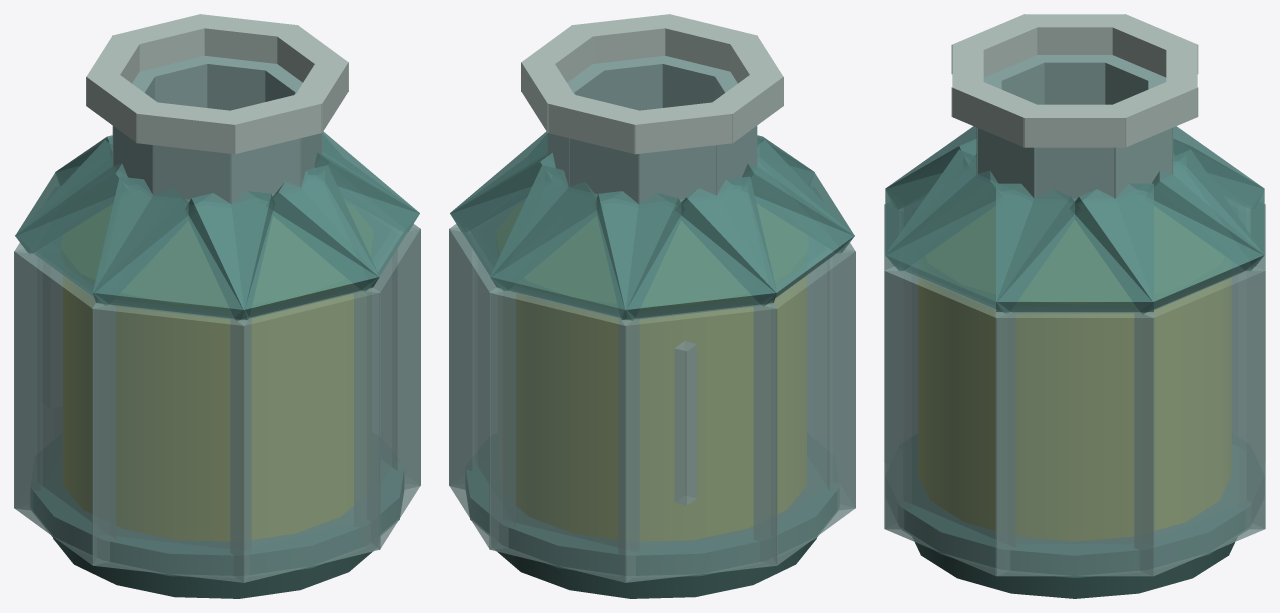
File: CMU3DBottleKelotaneCloud.glb
3 views of the same model, side by side, from view 1: azimuth 30°, elevation 25°; view 2: azimuth 150°, elevation 25°; view 3: azimuth 270°, elevation 25° (orthographic).
Visible parts, largest first — view 1: static liquid volume level 5, hollow bottle wall 06, hollow bottle wall 07, hollow bottle wall 05, inward glass shoulder 06, inward glass shoulder 07, hollow bottle wall 08, inward glass shoulder 05, bottom glass welt, inward glass shoulder 08, hollow bottle wall 01, hollow bottle wall 04 (+19 smaller); view 2: static liquid volume level 5, hollow bottle wall 04, hollow bottle wall 03, hollow bottle wall 05, inward glass shoulder 04, inward glass shoulder 03, hollow bottle wall 02, inward glass shoulder 05, bottom glass welt, inward glass shoulder 02, hollow bottle wall 06, hollow bottle wall 01 (+20 smaller); view 3: static liquid volume level 5, hollow bottle wall 01, hollow bottle wall 02, hollow bottle wall 08, inward glass shoulder 01, inward glass shoulder 02, inward glass shoulder 08, bottom glass welt, inward glass shoulder 03, inward glass shoulder 07, hollow bottle wall 03, hollow bottle wall 07 (+19 smaller).
Boxes of the visible parts, box(x1,y1,x2,y2) form: static liquid volume level 5: box(63, 276, 353, 540); hollow bottle wall 06: box(92, 303, 251, 582); hollow bottle wall 07: box(230, 287, 380, 582); hollow bottle wall 05: box(14, 248, 115, 565); inward glass shoulder 06: box(92, 176, 274, 320); inward glass shoulder 07: box(185, 165, 379, 321); hollow bottle wall 08: box(354, 228, 420, 549); inward glass shoulder 05: box(15, 140, 194, 306); bottom glass welt: box(31, 456, 403, 577); inward glass shoulder 08: box(266, 131, 419, 292); hollow bottle wall 01: box(374, 224, 420, 489); hollow bottle wall 04: box(14, 243, 53, 510); static liquid volume level 5: box(516, 276, 806, 540); hollow bottle wall 04: box(618, 302, 777, 582); hollow bottle wall 03: box(489, 287, 639, 582); hollow bottle wall 05: box(754, 248, 855, 565); inward glass shoulder 04: box(595, 176, 777, 320); inward glass shoulder 03: box(490, 165, 684, 321); hollow bottle wall 02: box(449, 228, 515, 549); inward glass shoulder 05: box(675, 140, 854, 306); bottom glass welt: box(466, 456, 838, 577); inward glass shoulder 02: box(450, 131, 603, 292); hollow bottle wall 06: box(816, 243, 855, 510); hollow bottle wall 01: box(449, 224, 495, 489); static liquid volume level 5: box(919, 278, 1230, 540); hollow bottle wall 01: box(995, 310, 1154, 576); hollow bottle wall 02: box(1134, 266, 1265, 576); hollow bottle wall 08: box(884, 266, 1015, 576); inward glass shoulder 01: box(996, 183, 1153, 312); inward glass shoulder 02: box(1070, 149, 1264, 314); inward glass shoulder 08: box(885, 149, 1079, 314); bottom glass welt: box(898, 444, 1251, 577); inward glass shoulder 03: box(1147, 126, 1264, 271); inward glass shoulder 07: box(885, 126, 1002, 271); hollow bottle wall 03: box(1238, 205, 1265, 529); hollow bottle wall 07: box(884, 205, 911, 529).
Bounding box in the file's own units: 0.3387 × 0.453 × 0.3387.
